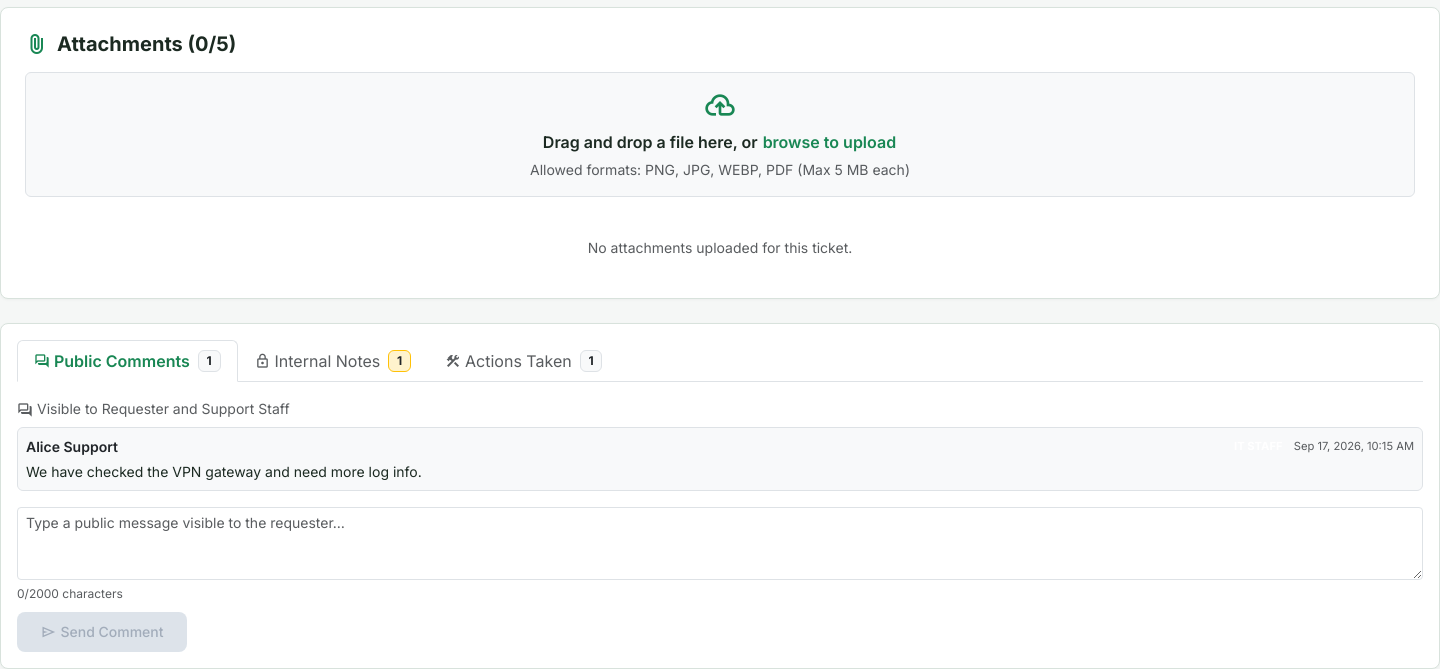
Lab 3 Staff Ticket Detail Operational Controls & Discussions Suite (UI-05, UI-06) › UI-06: Discussions Stream Visual Distinction & Submission › renders Public Comments panel and Private Internal Notes panel with distinct security styling (UI-06, AC-16, AC-17)
The image size is (1440, 669).
(page scrolled)
Expected: the element with test id "public-comments-panel" is shown, [17,398,1423,652]
Expected: the tab "Public Comments 1" is shown, [17,340,238,382]
Click the tab "Actions Taken 1".
click(524, 361)  # box [428,340,619,382]
(page scrolled)
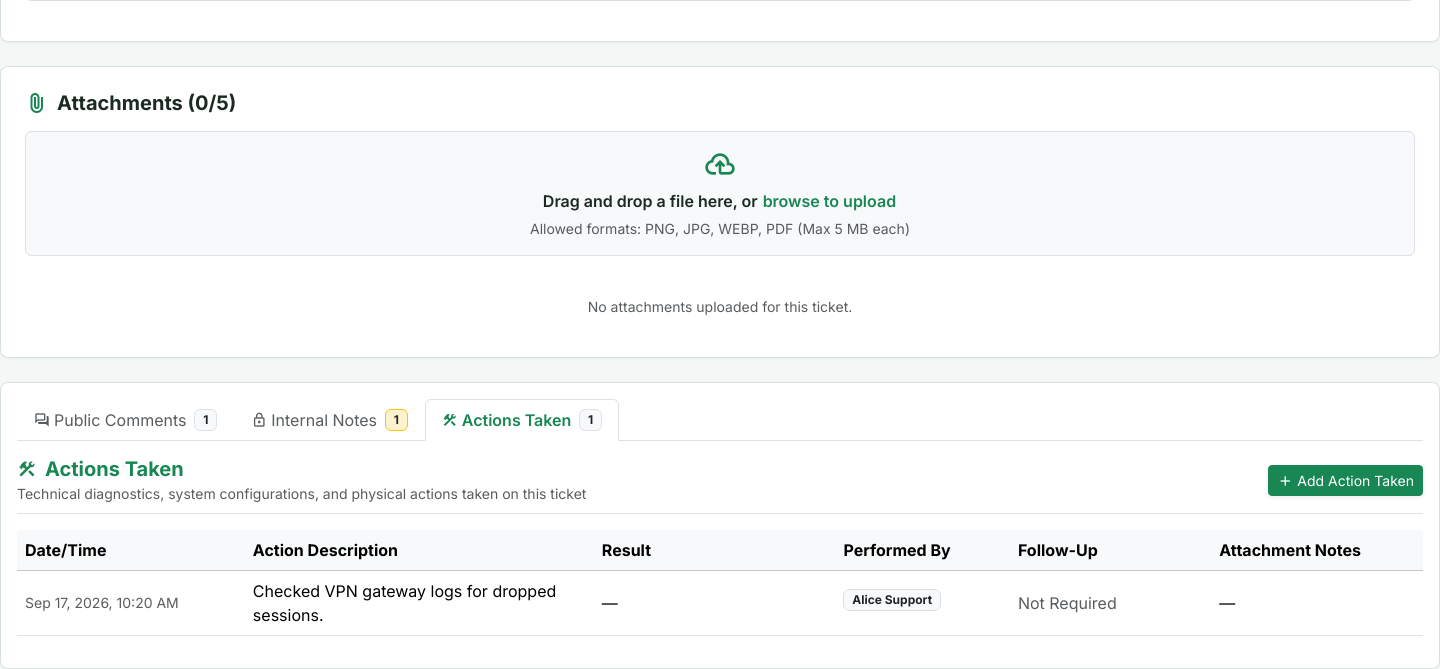
Expected: the panel with test id "actions-taken-panel" is shown, [17,457,1423,636]
